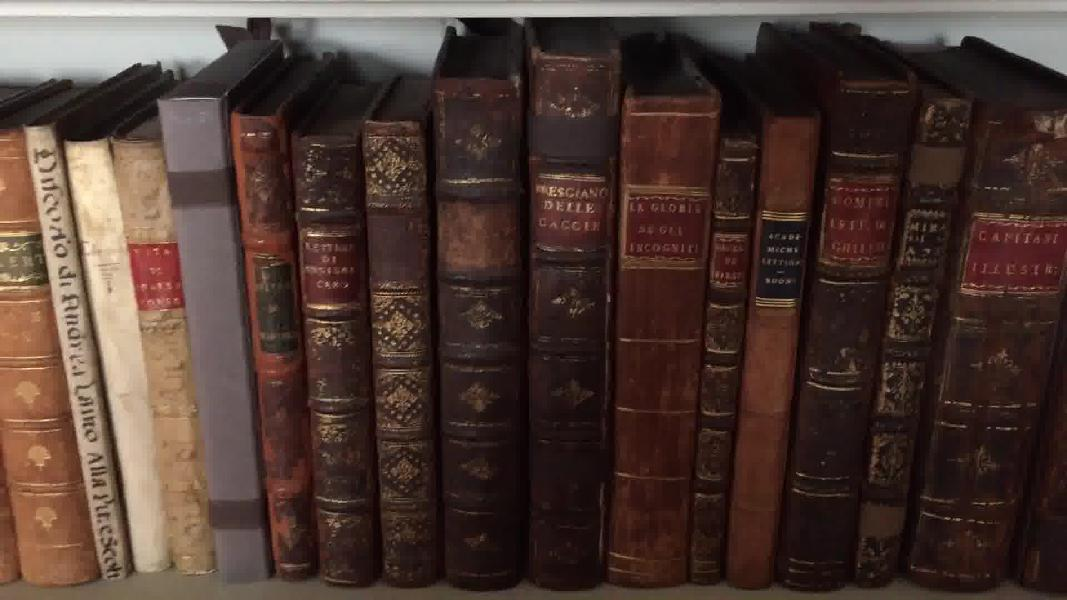Aa6-24: (15, 116, 140, 584)
Aa6-25: (55, 132, 188, 579)
Aa6-26: (104, 129, 221, 592)
Aa6-27: (152, 86, 269, 586)
Aa6-28: (228, 105, 327, 581)
Aa6-29: (292, 123, 381, 585)
Aa6-30: (352, 102, 444, 596)
Aa6-31: (424, 77, 540, 600)
Aa6-32: (517, 42, 622, 600)
Aa6-33: (613, 39, 702, 584)
Aa6-34: (692, 92, 751, 584)
Aa6-35: (721, 67, 805, 593)
Aa6-36: (781, 24, 911, 596)
Aa6-37: (836, 61, 961, 600)
Aa6-38: (911, 54, 1065, 600)
